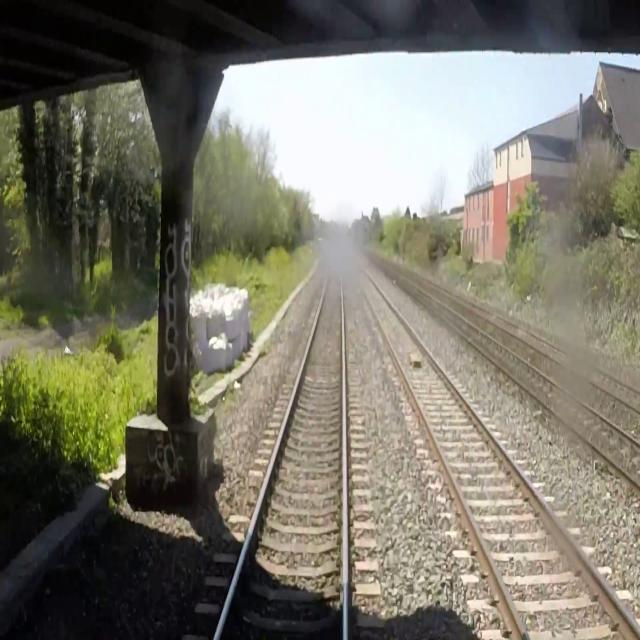rail-track: (346, 255, 640, 639), (370, 257, 640, 480), (220, 253, 342, 639), (415, 275, 640, 407)
